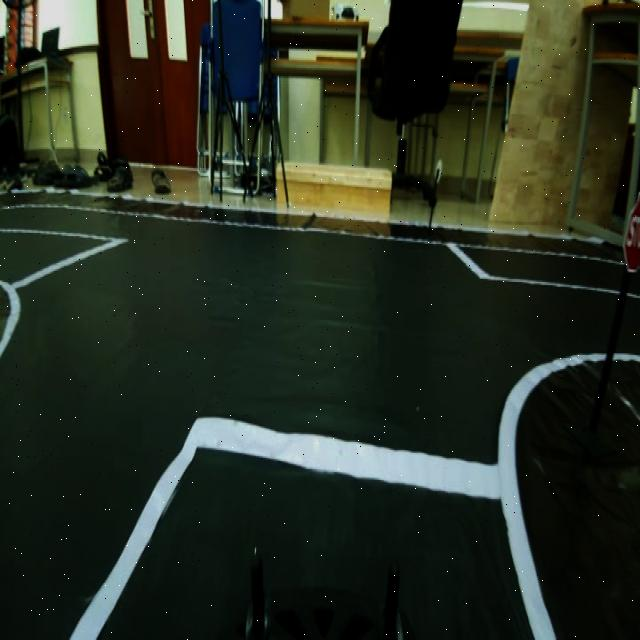stop: (626, 192, 640, 277)
